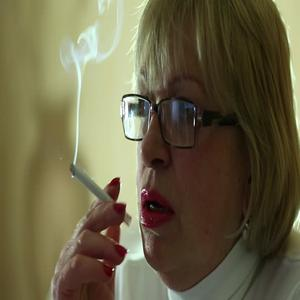cigarette: (66, 162, 135, 227)
